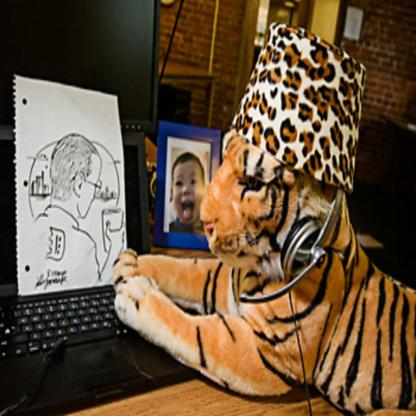board: (0, 121, 201, 416)
